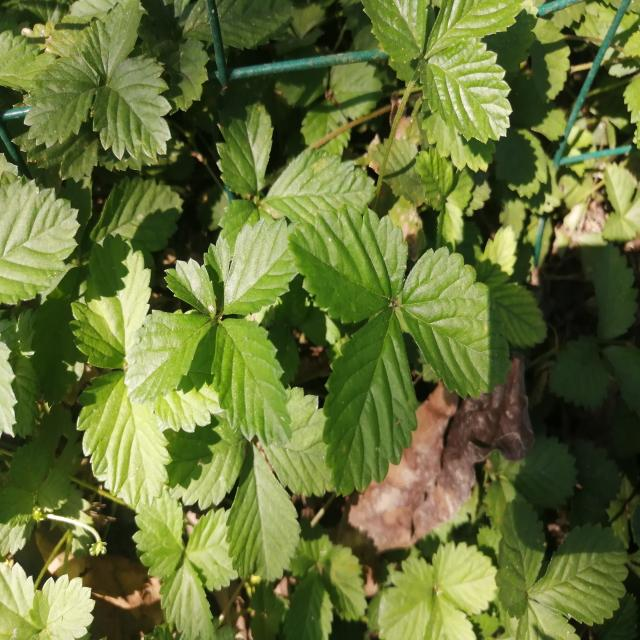Mock_strawberry: (300, 204, 505, 473), (134, 221, 333, 471), (10, 0, 203, 207)
